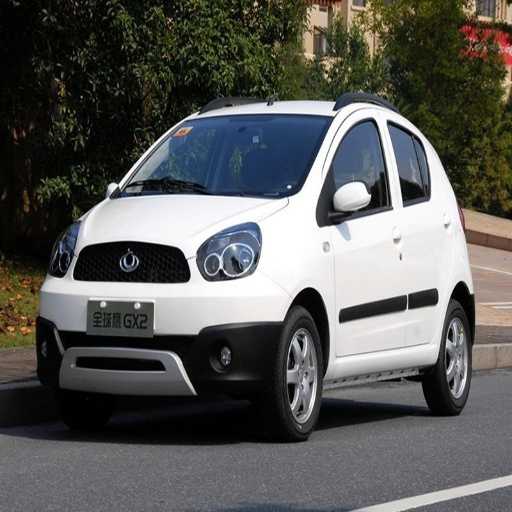front_bumper: (41, 235, 292, 404)
front_glass: (113, 114, 333, 198)
front_left_door: (320, 108, 405, 358)
